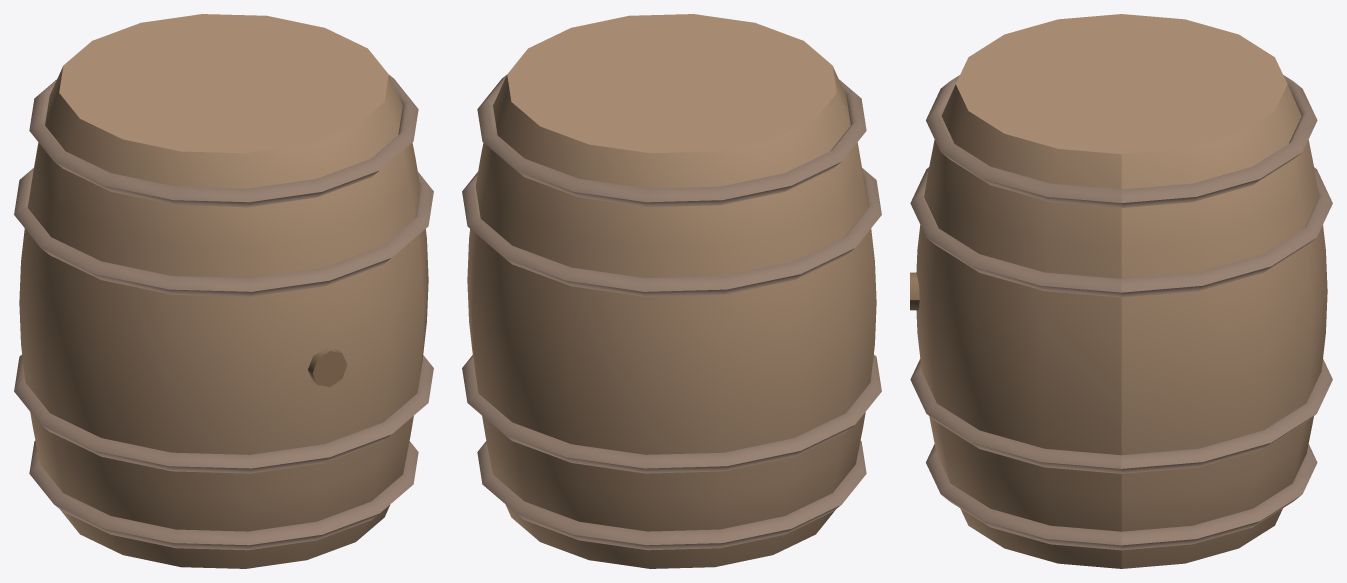
The model's file is fass.glb.
3 views of the same model, side by side, from view 1: azimuth 30°, elevation 25°; view 2: azimuth 150°, elevation 25°; view 3: azimuth 270°, elevation 25° (orthographic).
Visible parts, largest first — view 1: G_fass; view 2: G_fass; view 3: G_fass.
Part boxes in pixels (x1,y1,x2,y2): G_fass: [14, 14, 433, 568]; G_fass: [462, 14, 881, 568]; G_fass: [910, 14, 1332, 568].
Bounding box in the file's own units: 0.7388 × 0.8 × 0.7394.
